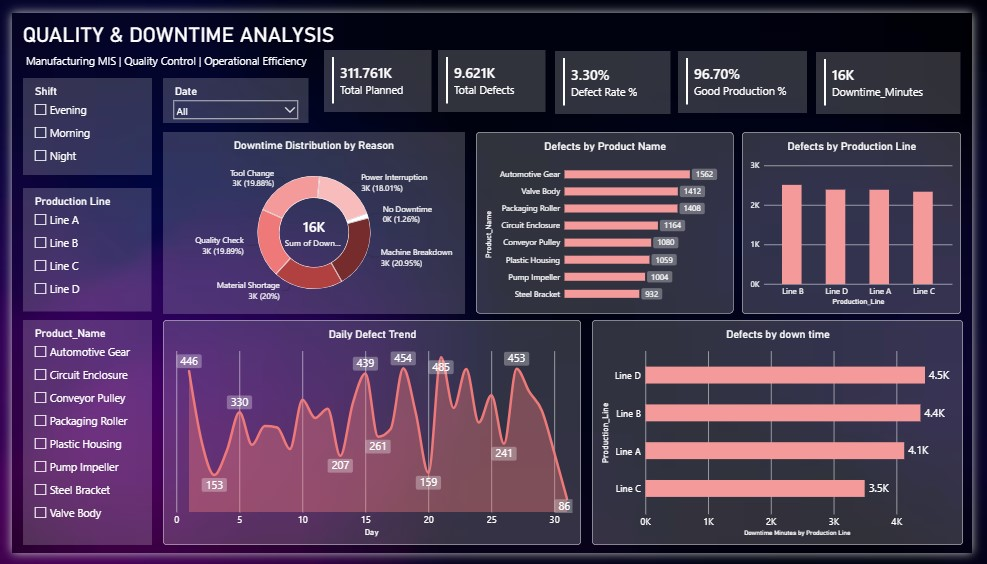

The dashboard page shown, as its layout file describes it:
{"tool":"powerbi","page":{"name":"Quality & Downtime Analysis","canvas":[1920,1080],"ordinal":1},"visuals":[{"type":"textbox","title":"QUALITY & DOWNTIME ANALYSIS","box":[22.1,18.1,812,112],"z":0},{"type":"cardVisual","fields":{"Data":["manufacturing_mis.Total Planned"]},"box":[623.5,74.3,214.7,123.9],"z":1000},{"type":"cardVisual","fields":{"Data":["manufacturing_mis.Total Defects"]},"box":[852.6,74.3,214.7,123.9],"z":2000},{"type":"cardVisual","fields":{"Data":["manufacturing_mis.Good Production %"]},"box":[1331.6,76.4,258.1,123.9],"z":3000},{"type":"cardVisual","fields":{"Data":["manufacturing_mis.Defect Rate %"]},"box":[1085.9,76.4,231.2,125.9],"z":4000},{"type":"columnChart","title":"Defects by Production Line","fields":{"Category":["manufacturing_mis.Production_Line"],"Y":["manufacturing_mis.Total Defects"]},"box":[1460,238,438,364],"z":5000},{"type":"donutChart","title":"Downtime Distribution by Reason","fields":{"Category":["manufacturing_mis.Downtime_Reason"],"Y":["Sum(manufacturing_mis.Downtime_Minutes)"]},"box":[302,238,604,364],"z":6000},{"type":"slicer","fields":{"Values":["manufacturing_mis.Production_Date.Variation.Date Hierarchy.Year","manufacturing_mis.Production_Date.Variation.Date Hierarchy.Month"]},"box":[302,130,291.1,89.7],"z":7000},{"type":"slicer","fields":{"Values":["manufacturing_mis.Production_Line"]},"box":[22,349.6,257.4,246.7],"z":8000},{"type":"slicer","fields":{"Values":["manufacturing_mis.Product_Name"]},"box":[22,613.2,258.1,450.3],"z":9000},{"type":"areaChart","title":"Daily Defect Trend","fields":{"Category":["manufacturing_mis.Production_Date.Variation.Date Hierarchy.Day"],"Y":["manufacturing_mis.Total Defects"]},"box":[302,614,836,450],"z":10000},{"type":"cardVisual","fields":{"Data":["Sum(manufacturing_mis.Downtime_Minutes)"]},"box":[1608.3,78.5,289,123.9],"z":11000},{"type":"clusteredBarChart","title":"Defects by down time","fields":{"Category":["manufacturing_mis.Production_Line"],"Y":["Sum(manufacturing_mis.Downtime_Minutes)"]},"box":[1160,614,742,450],"z":12000},{"type":"slicer","fields":{"Values":["manufacturing_mis.Shift"]},"box":[22,130,258.1,194],"z":13000},{"type":"barChart","title":"Defects by Product Name","fields":{"Category":["manufacturing_mis.Product_Name"],"Y":["manufacturing_mis.Total Defects"]},"box":[928,238,515,363.4],"z":14000}]}

Visuals, with their boxes in screenshot pixels (x1, y1, x2, y2), scaled from the page's 1920x1080 canvas onto the 987x564 screenshot:
"QUALITY & DOWNTIME ANALYSIS" textbox: Rect(11, 9, 429, 68)
cardVisual - manufacturing_mis.Total Planned: Rect(321, 39, 431, 104)
cardVisual - manufacturing_mis.Total Defects: Rect(438, 39, 549, 104)
cardVisual - manufacturing_mis.Good Production %: Rect(685, 40, 817, 105)
cardVisual - manufacturing_mis.Defect Rate %: Rect(558, 40, 677, 106)
"Defects by Production Line" columnChart: Rect(751, 124, 976, 314)
"Downtime Distribution by Reason" donutChart: Rect(155, 124, 466, 314)
slicer - manufacturing_mis.Production_Date.Variation.Date Hierarchy.Year x manufacturing_mis.Production_Date.Variation.Date Hierarchy.Month: Rect(155, 68, 305, 115)
slicer - manufacturing_mis.Production_Line: Rect(11, 183, 144, 311)
slicer - manufacturing_mis.Product_Name: Rect(11, 320, 144, 555)
"Daily Defect Trend" areaChart: Rect(155, 321, 585, 556)
cardVisual - Sum(manufacturing_mis.Downtime_Minutes): Rect(827, 41, 975, 106)
"Defects by down time" clusteredBarChart: Rect(596, 321, 978, 556)
slicer - manufacturing_mis.Shift: Rect(11, 68, 144, 169)
"Defects by Product Name" barChart: Rect(477, 124, 742, 314)
